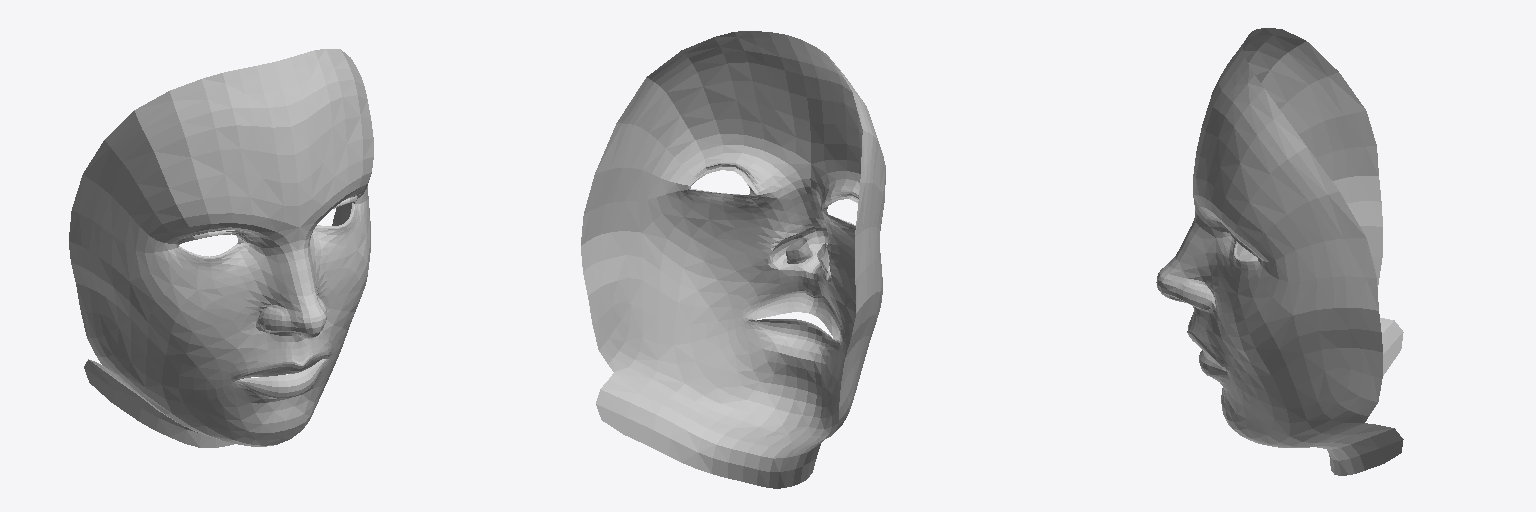
The model's file is Faith_face.obj.
3 views of the same model, side by side, from view 1: azimuth 30°, elevation 25°; view 2: azimuth 150°, elevation 25°; view 3: azimuth 270°, elevation 25° (orthographic).
Size of the model in its own units: 0.6676 by 0.961 by 0.5184.